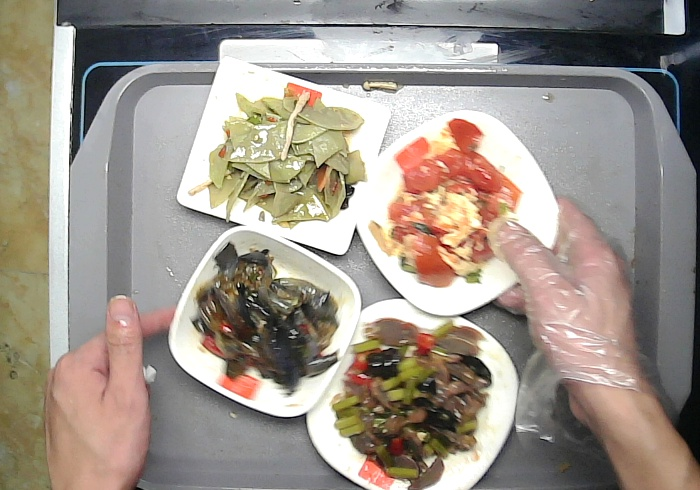SHKJ-Bai_Se_Cai_Die: (352, 108, 561, 317)
SHKJ-Bai_Se_Si_Fang_Cai_Die: (306, 297, 520, 487)
SHKJ-Bai_Se_Xiao_Fang_Die: (167, 225, 363, 416)
SHKJ-Si_Fang_Min: (177, 55, 392, 258)
